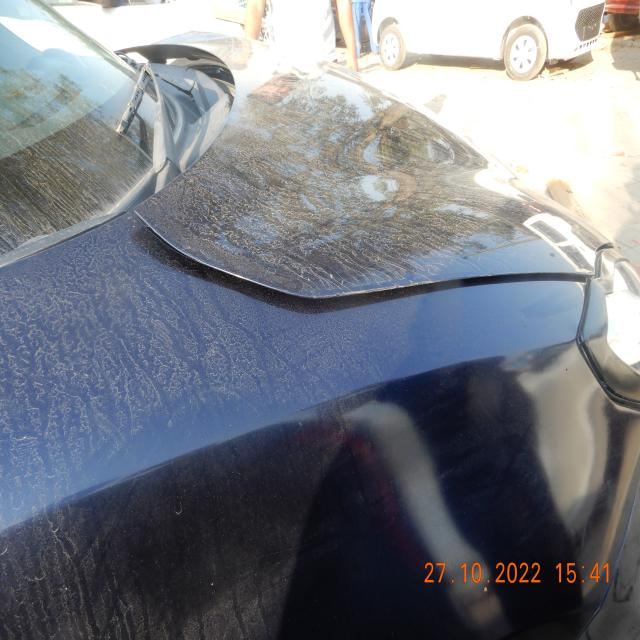damage: (130, 203, 606, 343)
